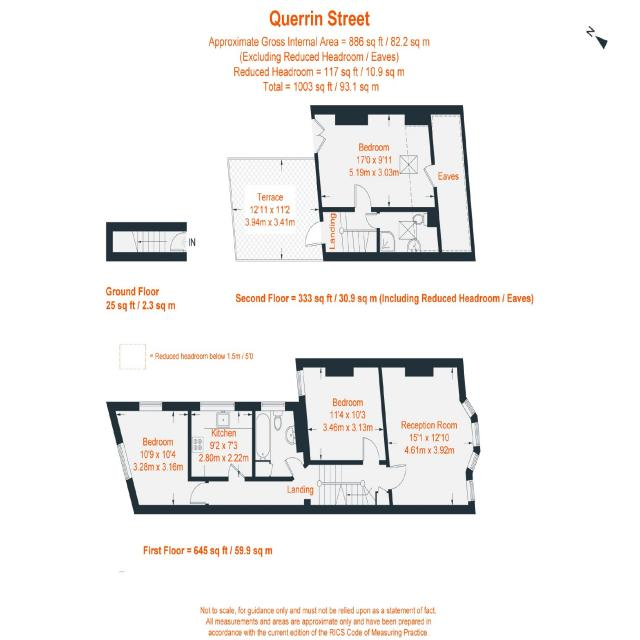DOOR: (386, 462, 407, 491), (361, 437, 380, 465), (354, 183, 372, 212), (284, 457, 306, 480), (189, 482, 209, 505), (228, 462, 245, 482), (365, 212, 380, 229)
ROOM: (378, 358, 481, 515), (309, 105, 439, 212), (106, 401, 209, 515), (292, 358, 390, 465), (188, 401, 256, 482)
WINDOW: (116, 441, 133, 482), (200, 401, 235, 411), (466, 450, 480, 473), (461, 398, 476, 419), (296, 369, 306, 397), (261, 401, 286, 412), (138, 401, 163, 412), (471, 421, 480, 448), (466, 479, 475, 502)
